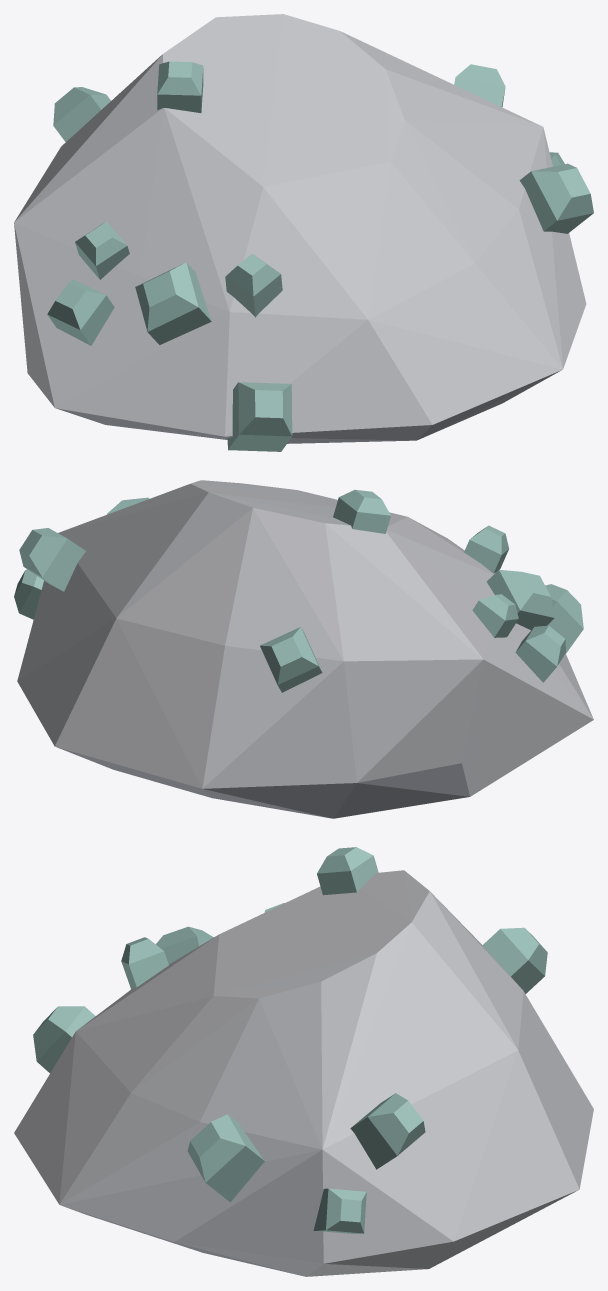
Rendered from SM_MR_Crystal_Large_02.fbx.
The picture shows the model from 3 angles, top to bottom: view 1: azimuth 30°, elevation 25°; view 2: azimuth 150°, elevation 25°; view 3: azimuth 270°, elevation 25°; orthographic projection. The views are drawn at different scales.
Parts seen in each view (by area): view 1: SM_MR_Crystal_Large_02; view 2: SM_MR_Crystal_Large_02; view 3: SM_MR_Crystal_Large_02.
Boxes of the visible parts, box(x1,y1,x2,y2) form: SM_MR_Crystal_Large_02: box(14, 14, 593, 451); SM_MR_Crystal_Large_02: box(14, 480, 593, 818); SM_MR_Crystal_Large_02: box(14, 847, 593, 1276).
Bounding box in the file's own units: 2.65 × 2.4 × 1.28.
